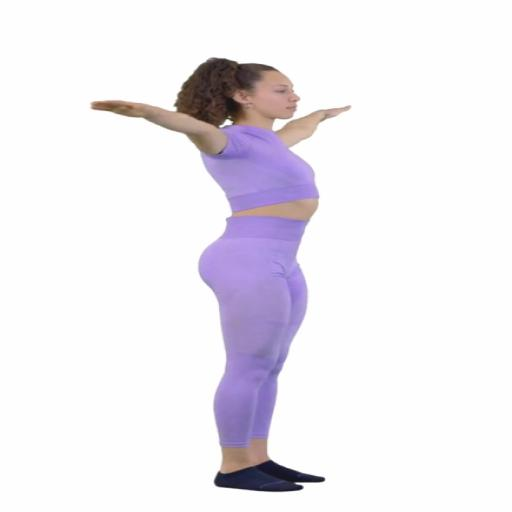Normal_BrenchPress: (90, 57, 351, 493)
